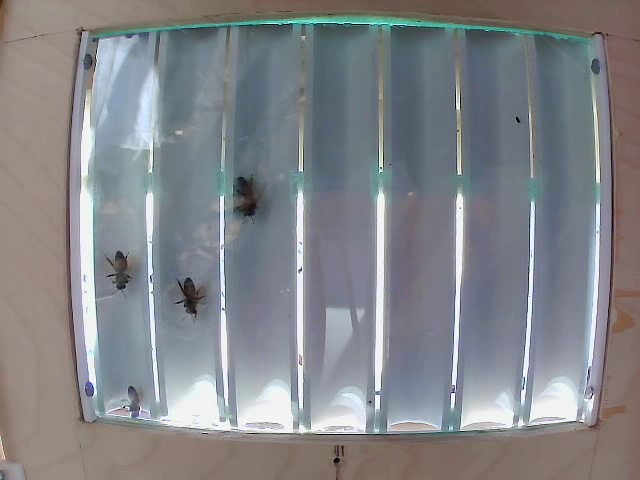bee: (107, 364, 151, 413), (176, 279, 217, 330), (104, 244, 145, 285), (224, 171, 260, 215)
